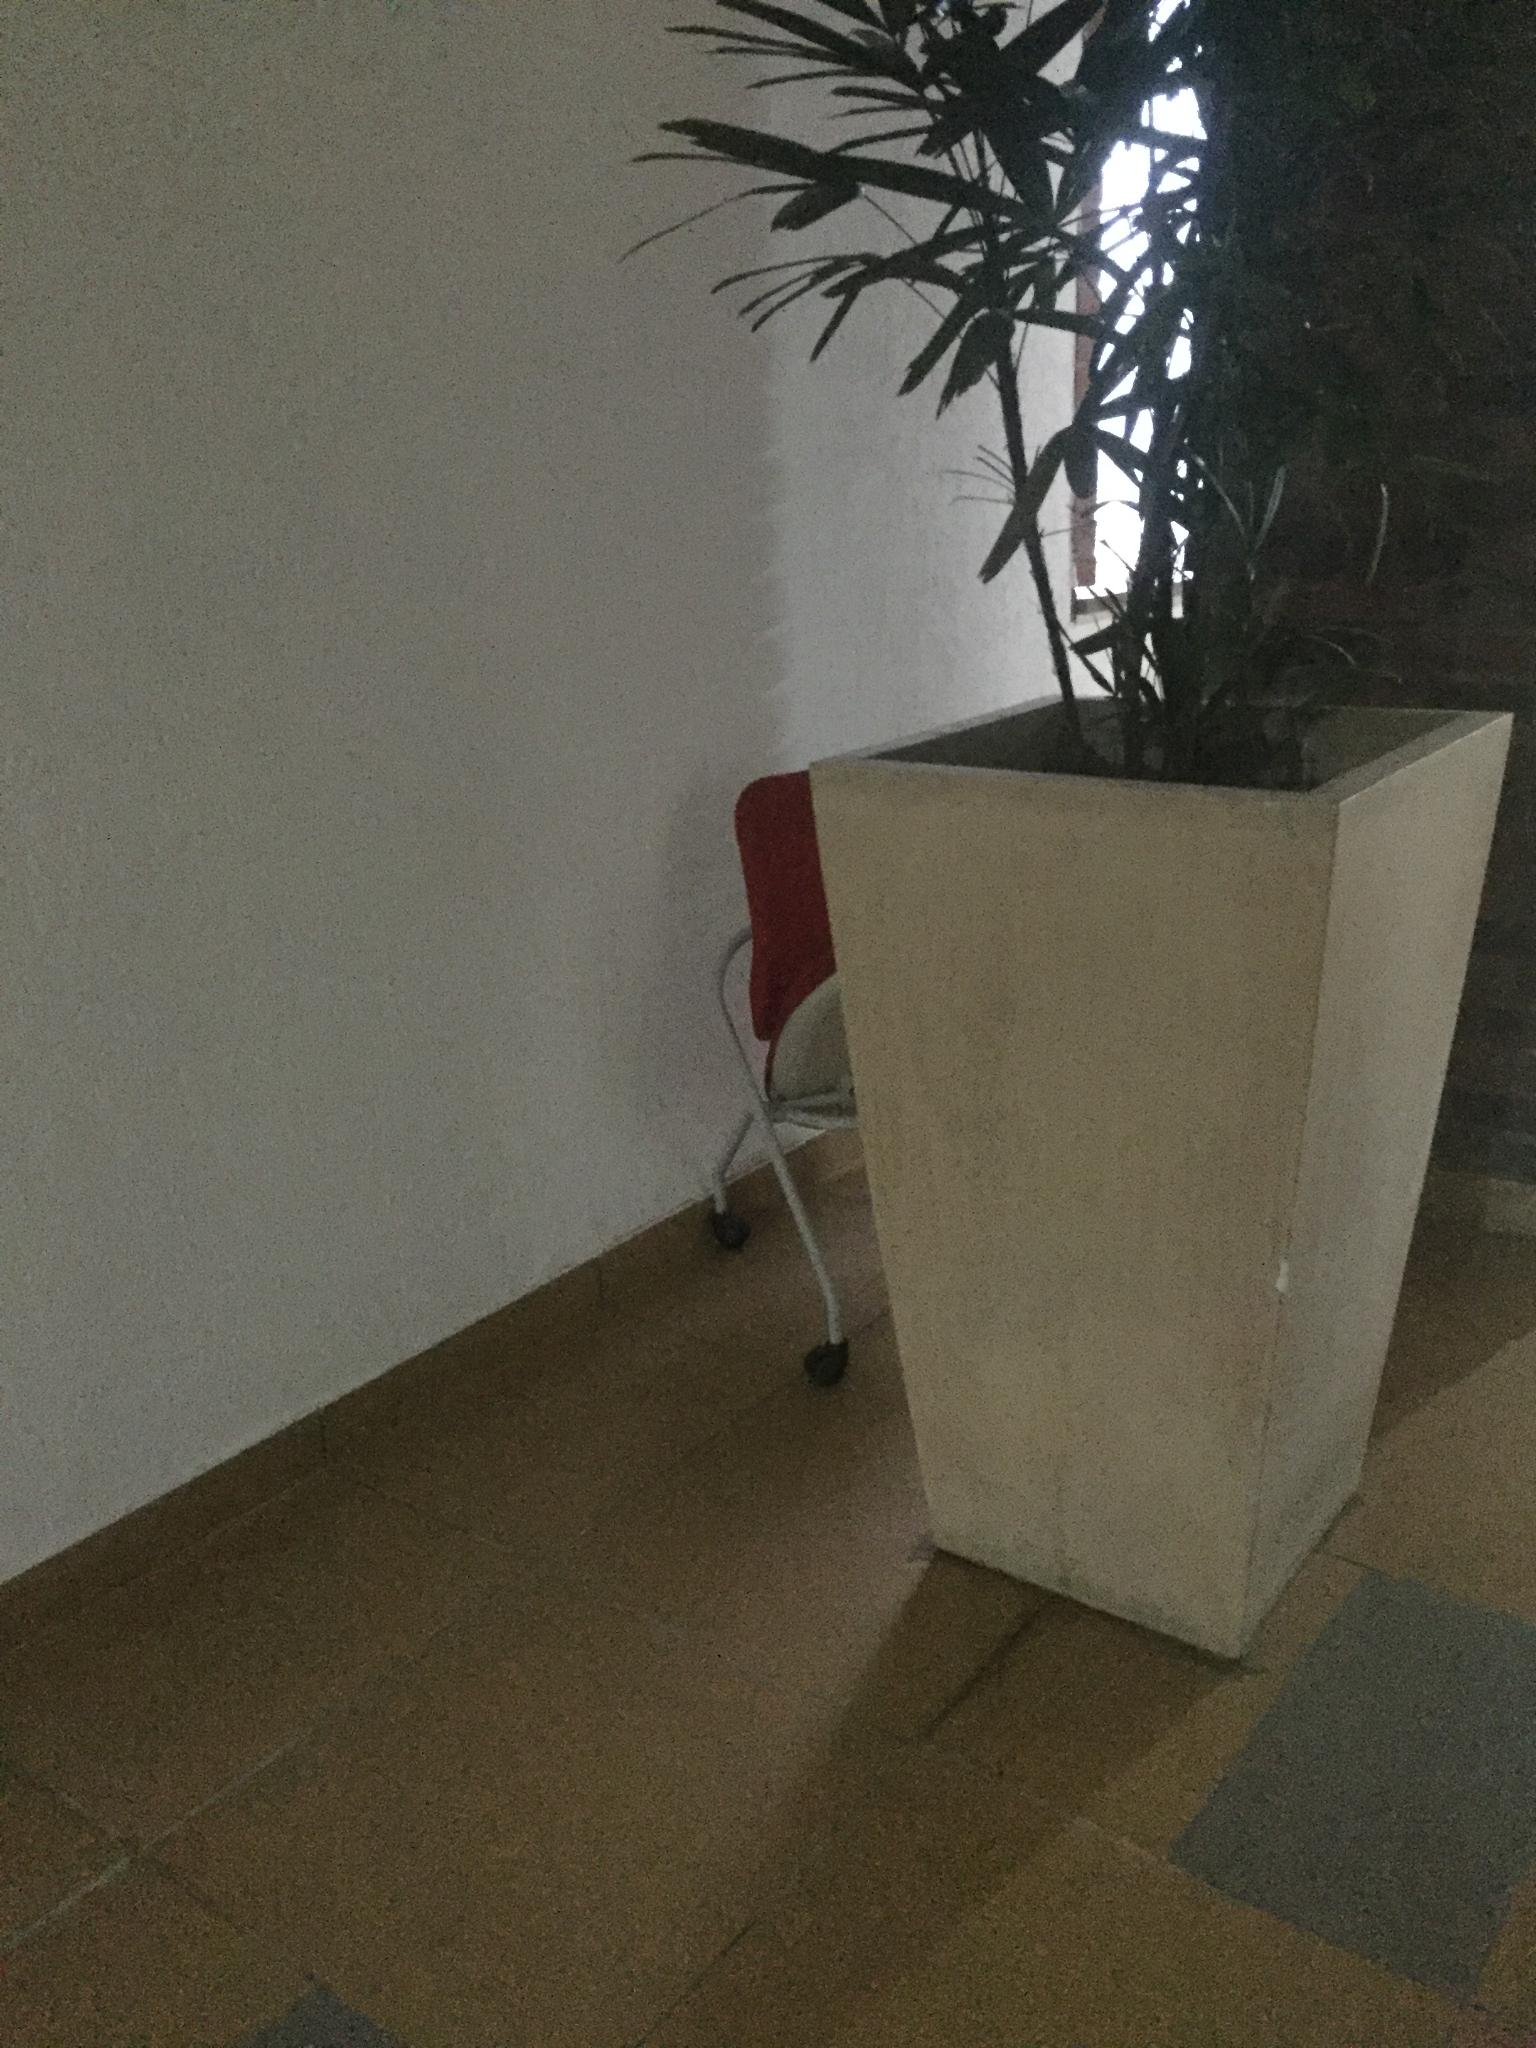chair: (705, 768, 862, 1385)
